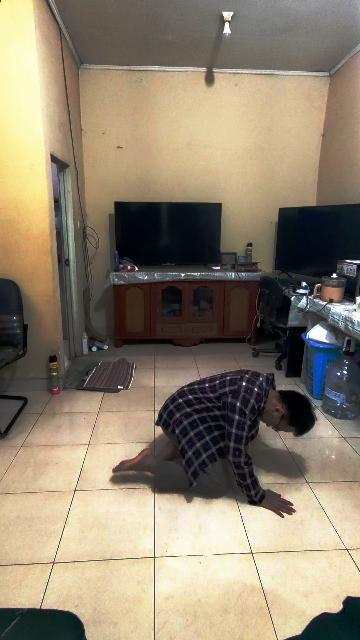jatuh: (114, 370, 316, 524)
